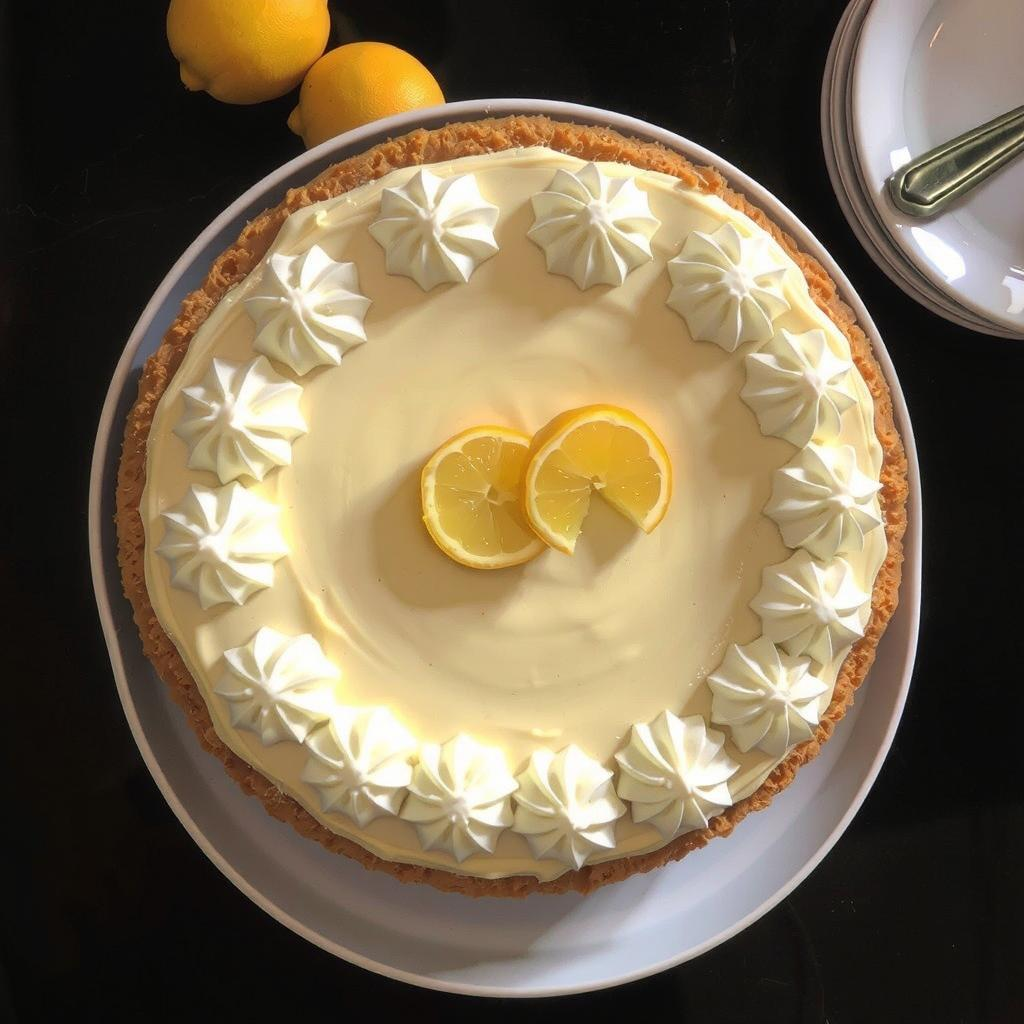pie: (101, 113, 923, 909)
